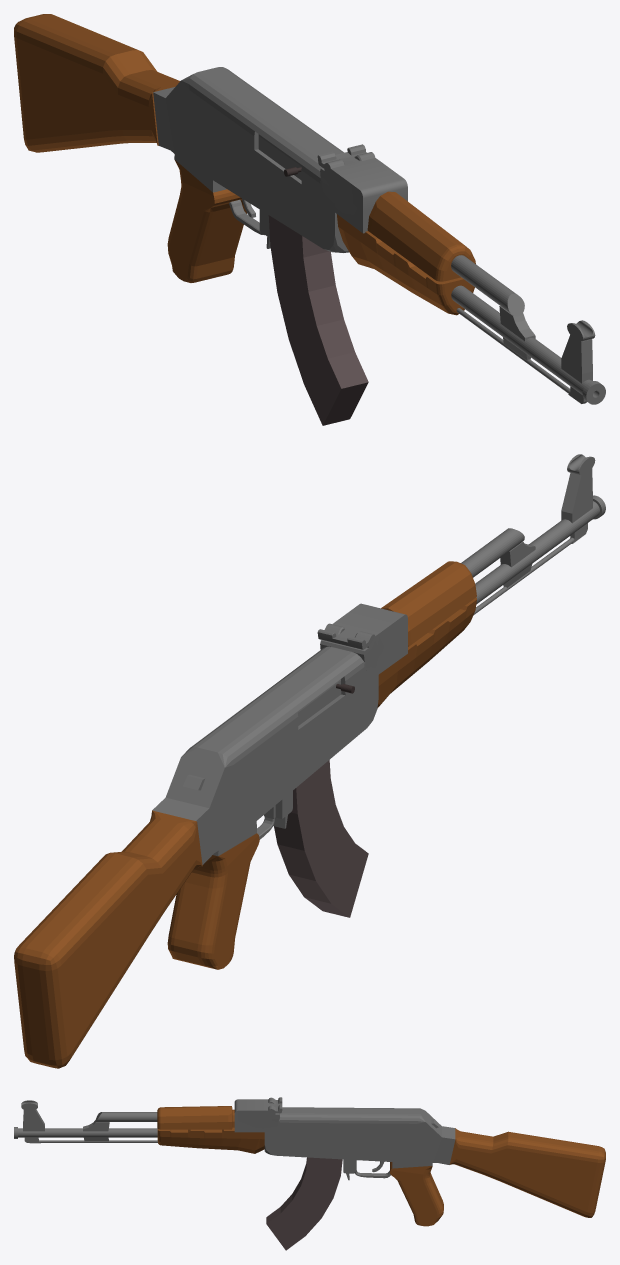
The model's file is Common.fbx.
The picture shows the model from 3 angles, top to bottom: view 1: azimuth 30°, elevation 25°; view 2: azimuth 150°, elevation 25°; view 3: azimuth 270°, elevation 25°; orthographic projection. The views are drawn at different scales.
Parts seen in each view (by area): view 1: Body.001, Stock.001, Common, Grip.001, Top Front Grip.001, Rear Sight Thingy.001, Bottom Handguard thing.001, Bottom Barrel.001, Top Barrel.001, Front Sight.001, Top To Bottom to Bottomer Connector.001, Bottomer Barrel.001; view 2: Body.001, Stock.001, Common, Grip.001, Rear Sight Thingy.001, Top Front Grip.001, Bottom Handguard thing.001, Bottom Barrel.001, Front Sight.001, Top Barrel.001; view 3: Body.001, Stock.001, Common, Bottom Handguard thing.001, Grip.001, Top Front Grip.001, Rear Sight Thingy.001, Bottom Barrel.001, Top Barrel.001, Front Sight.001, Top To Bottom to Bottomer Connector.001, Bottomer Barrel.001.
Boxes of the visible parts, x1=… form: Body.001: x1=153, y1=67, x2=348, y2=252; Stock.001: x1=14, y1=14, x2=179, y2=152; Common: x1=268, y1=215, x2=368, y2=425; Grip.001: x1=167, y1=159, x2=246, y2=282; Top Front Grip.001: x1=367, y1=191, x2=475, y2=281; Rear Sight Thingy.001: x1=317, y1=144, x2=407, y2=233; Bottom Handguard thing.001: x1=337, y1=214, x2=474, y2=315; Bottom Barrel.001: x1=451, y1=285, x2=605, y2=404; Top Barrel.001: x1=451, y1=255, x2=524, y2=316; Front Sight.001: x1=561, y1=335, x2=592, y2=403; Top To Bottom to Bottomer Connector.001: x1=499, y1=306, x2=535, y2=360; Bottomer Barrel.001: x1=456, y1=308, x2=570, y2=393; Body.001: x1=152, y1=646, x2=378, y2=864; Stock.001: x1=14, y1=810, x2=202, y2=1068; Common: x1=274, y1=760, x2=368, y2=917; Grip.001: x1=167, y1=833, x2=259, y2=969; Rear Sight Thingy.001: x1=317, y1=603, x2=407, y2=674; Top Front Grip.001: x1=381, y1=561, x2=476, y2=646; Bottom Handguard thing.001: x1=377, y1=597, x2=476, y2=708; Bottom Barrel.001: x1=475, y1=495, x2=605, y2=604; Front Sight.001: x1=561, y1=468, x2=592, y2=543; Top Barrel.001: x1=461, y1=528, x2=524, y2=577; Body.001: x1=264, y1=1107, x2=455, y2=1180; Stock.001: x1=449, y1=1128, x2=605, y2=1217; Common: x1=266, y1=1157, x2=342, y2=1250; Bottom Handguard thing.001: x1=157, y1=1127, x2=264, y2=1153; Grip.001: x1=390, y1=1162, x2=443, y2=1226; Top Front Grip.001: x1=157, y1=1106, x2=234, y2=1129; Rear Sight Thingy.001: x1=234, y1=1097, x2=282, y2=1132; Bottom Barrel.001: x1=14, y1=1127, x2=157, y2=1138; Top Barrel.001: x1=95, y1=1112, x2=157, y2=1121; Front Sight.001: x1=23, y1=1109, x2=44, y2=1143; Top To Bottom to Bottomer Connector.001: x1=83, y1=1121, x2=109, y2=1141; Bottomer Barrel.001: x1=39, y1=1140, x2=157, y2=1142.
Size of the model in its own units: 26.34 by 124 by 459.
